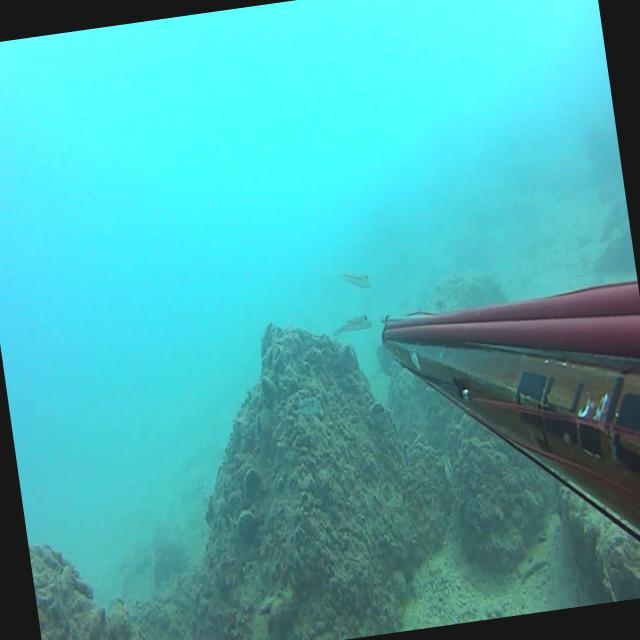Balon Baligi: (330, 315, 372, 337), (342, 270, 372, 292), (298, 394, 322, 415)
